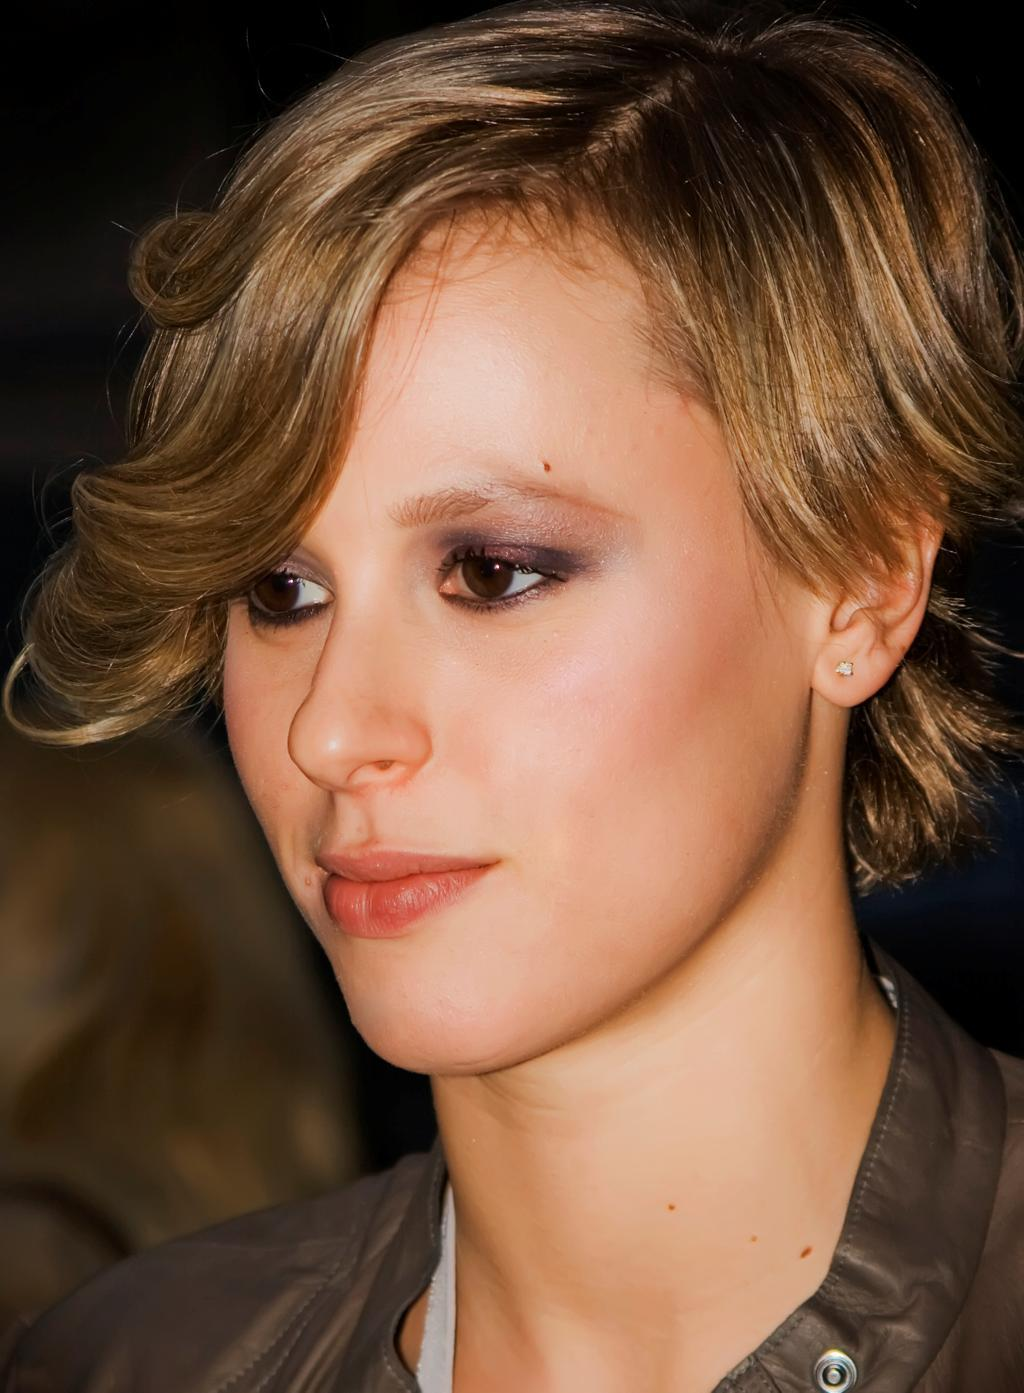face: (226, 406, 737, 1077)
